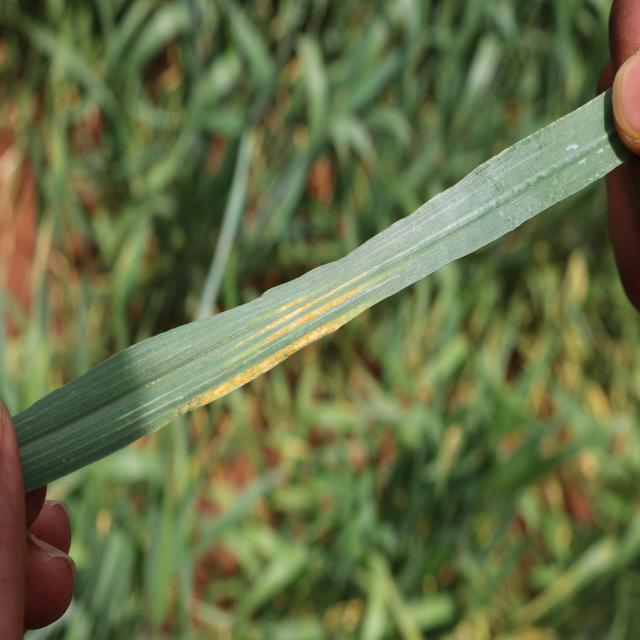Stripe Rust: (184, 318, 341, 414), (267, 288, 325, 334), (338, 282, 366, 302)
